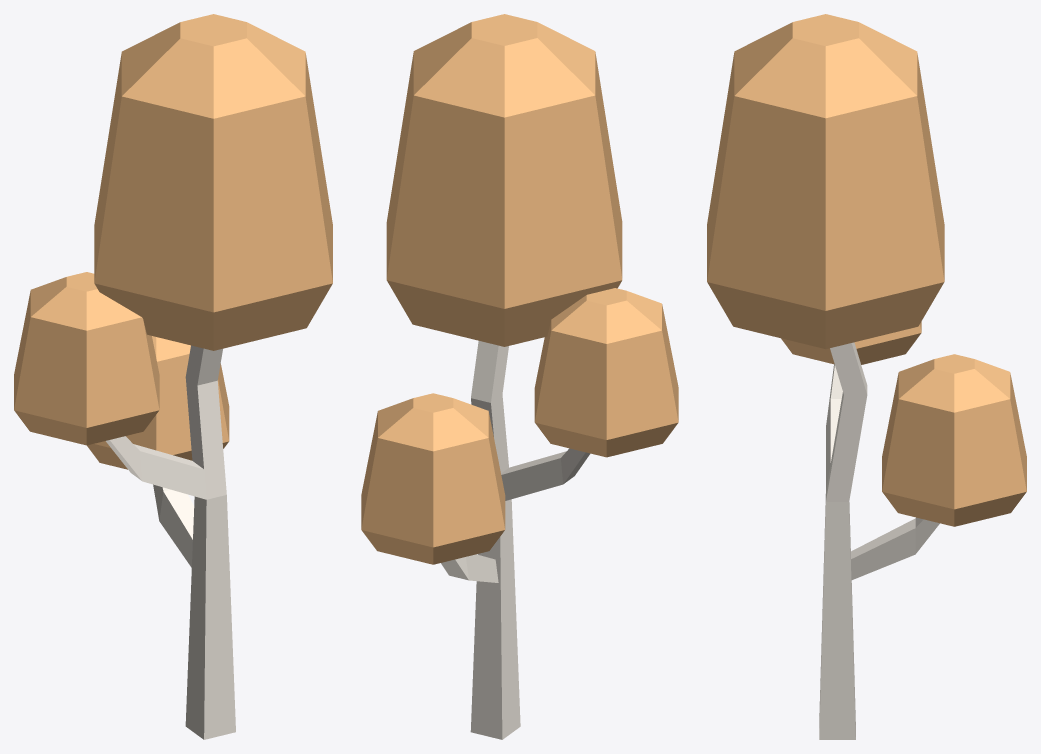
The model's file is tree-thin-fall.glb.
3 renders of one model, left to right at view 1: azimuth 30°, elevation 25°; view 2: azimuth 150°, elevation 25°; view 3: azimuth 270°, elevation 25°, orthographic.
Visible parts, largest first — view 1: tree_thin_fall; view 2: tree_thin_fall; view 3: tree_thin_fall.
Part boxes in pixels (bbox=[...]): tree_thin_fall: bbox=[14, 14, 332, 739]; tree_thin_fall: bbox=[361, 14, 678, 739]; tree_thin_fall: bbox=[707, 14, 1026, 739].
Size of the model in its own units: 0.6804 by 1.49 by 0.6165.
